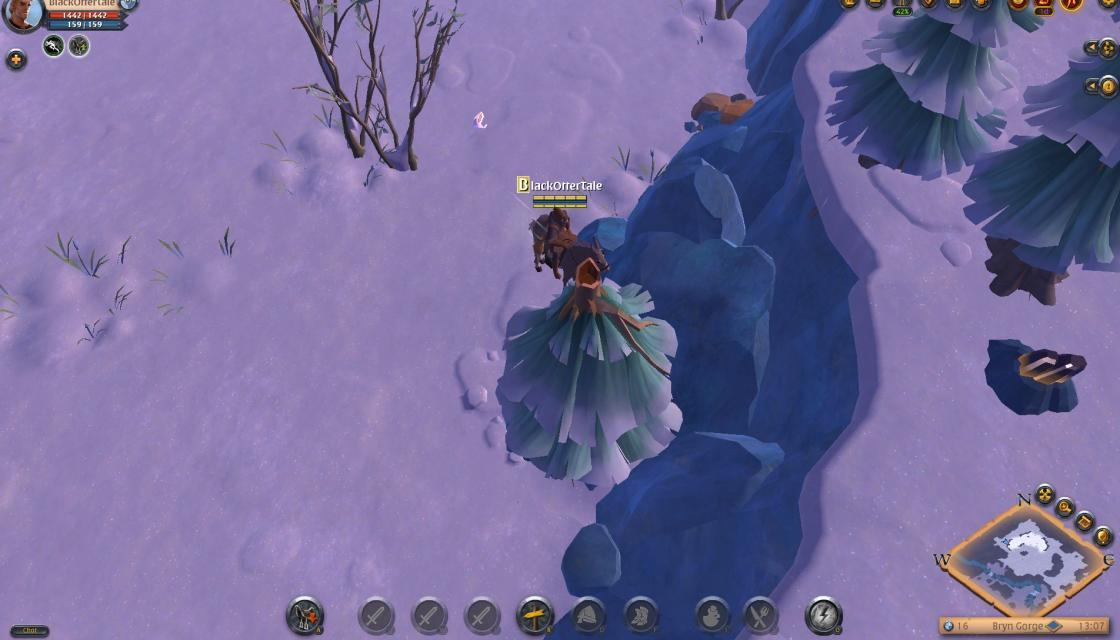copperore: (986, 332, 1088, 412)
limestone: (685, 88, 756, 130)
